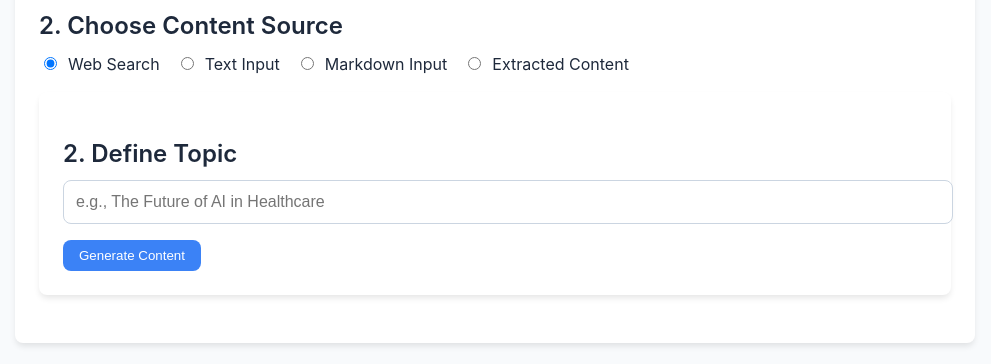
Scenario: ContentInput › Extracted Content Support › displays slide count for extracted content
Click the radio button labelled "Extracted Content": (475, 63) [468, 57, 481, 70]
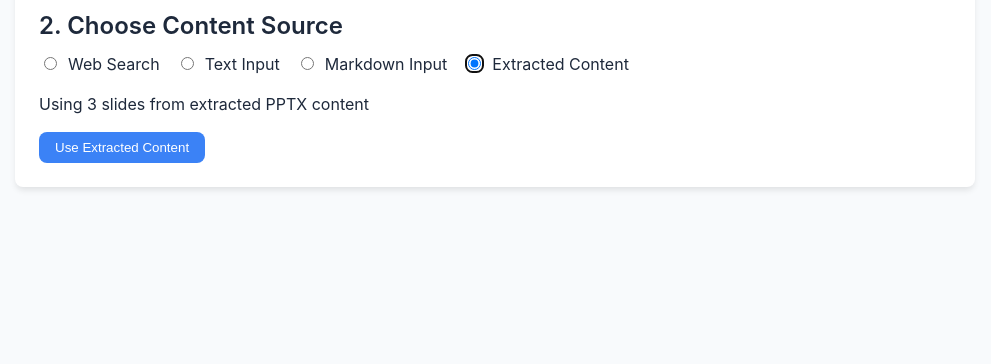
Expected: the text "Using 3 slides from extracted PPTX content" is shown, [39, 94, 369, 114]
